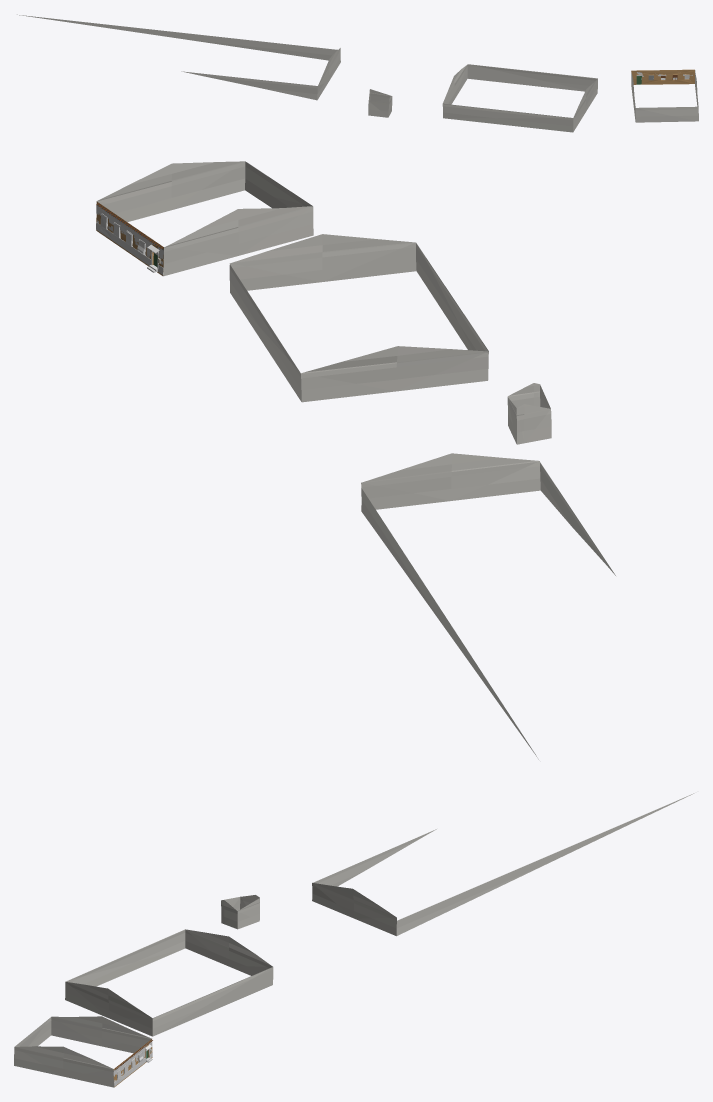
The model's file is zona_5_-1.glb.
The picture shows the model from 3 angles, top to bottom: view 1: azimuth 30°, elevation 25°; view 2: azimuth 150°, elevation 25°; view 3: azimuth 270°, elevation 25°; orthographic projection. The views are drawn at different scales.
Parts seen in each view (by area): view 1: z_casas_5_-1, z_fachadas_5_-1; view 2: z_casas_5_-1, z_fachadas_5_-1; view 3: z_casas_5_-1, z_fachadas_5_-1.
Boxes of the visible parts, <box> form: z_casas_5_-1: <box>17,14,698,132</box>; z_fachadas_5_-1: <box>636,72,692,84</box>; z_casas_5_-1: <box>96,161,615,759</box>; z_fachadas_5_-1: <box>96,203,163,274</box>; z_casas_5_-1: <box>14,793,694,1087</box>; z_fachadas_5_-1: <box>113,1039,152,1086</box>.
Bounding box in the file's own units: 117 × 5.86 × 121.
